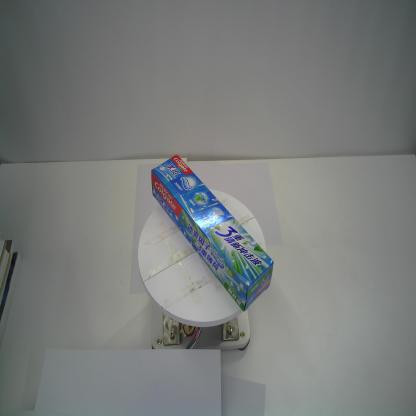Personal Hygiene: (150, 154, 275, 316)
